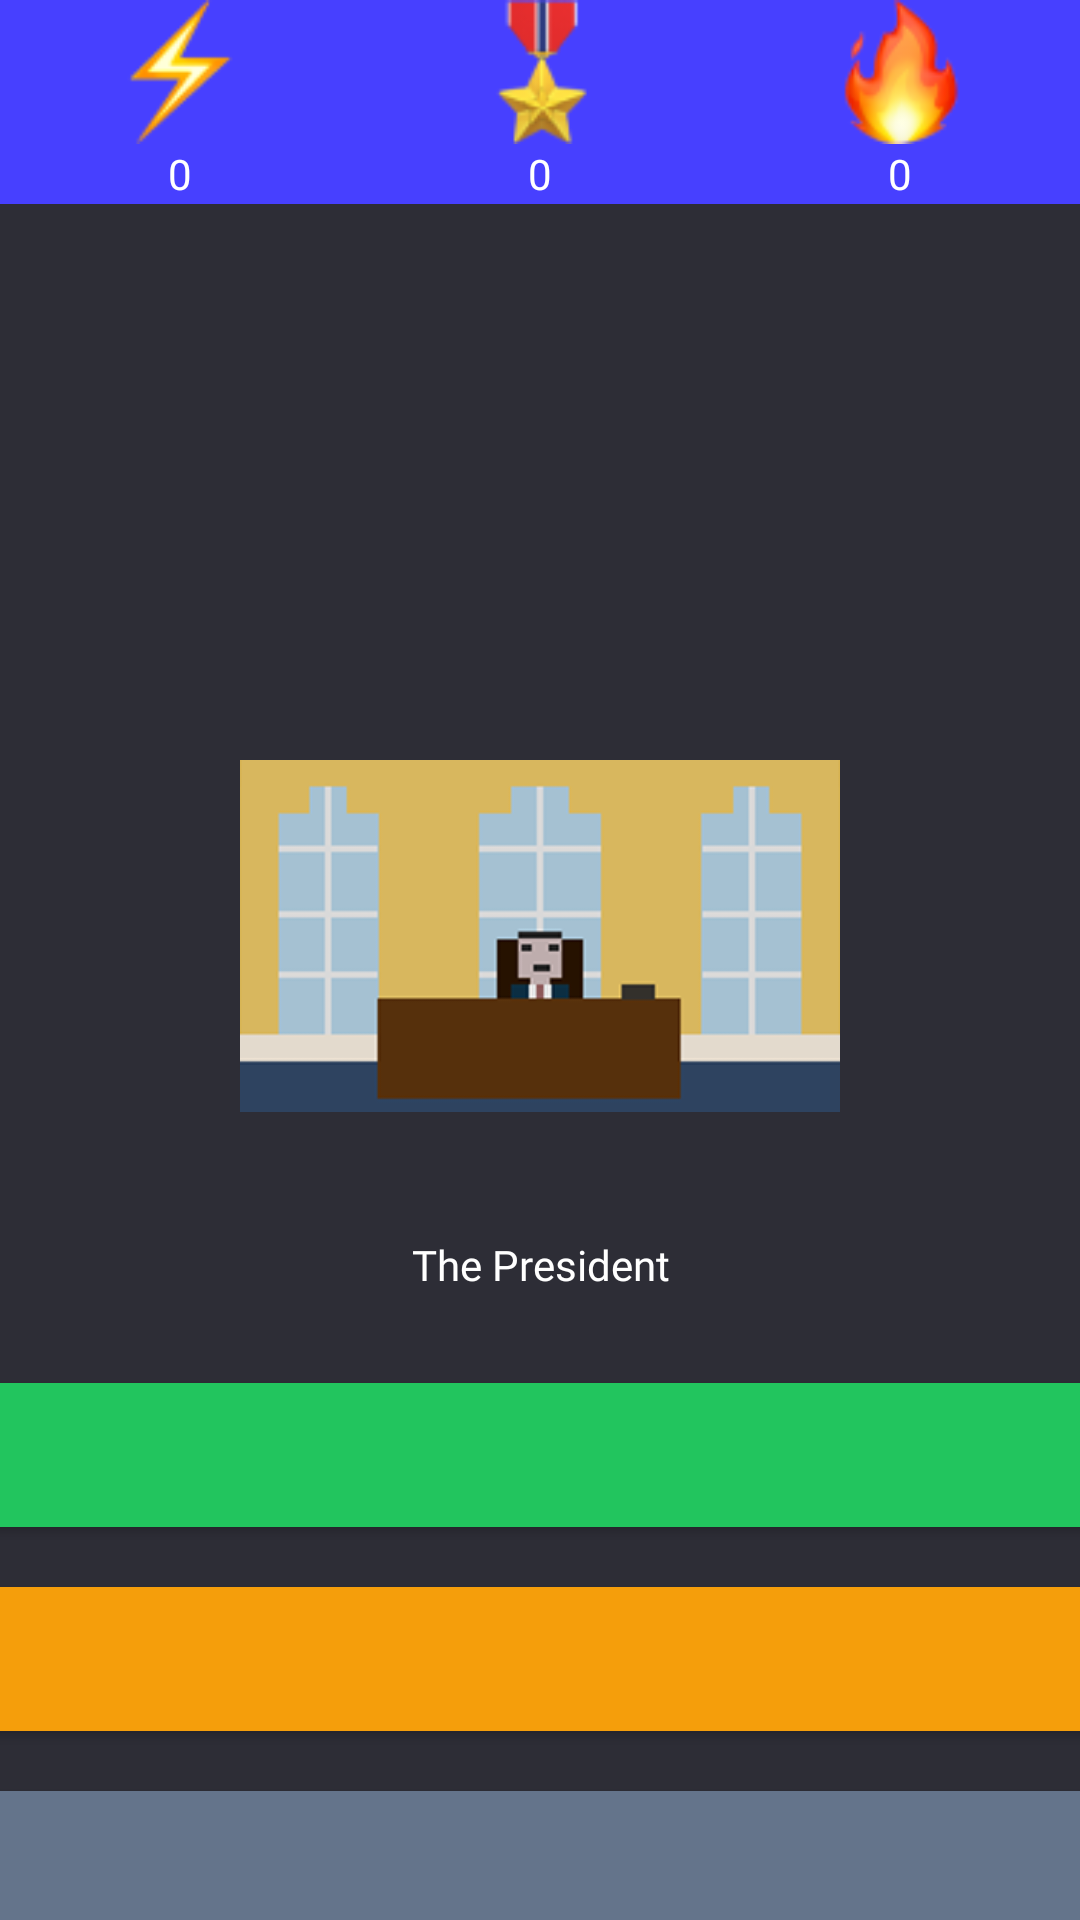

Icons on this 1080×1920 Android screen, each with the point to tap as [x,y]:
heat: [901,72]
loyalty: [542,72]
power: [180,72]
